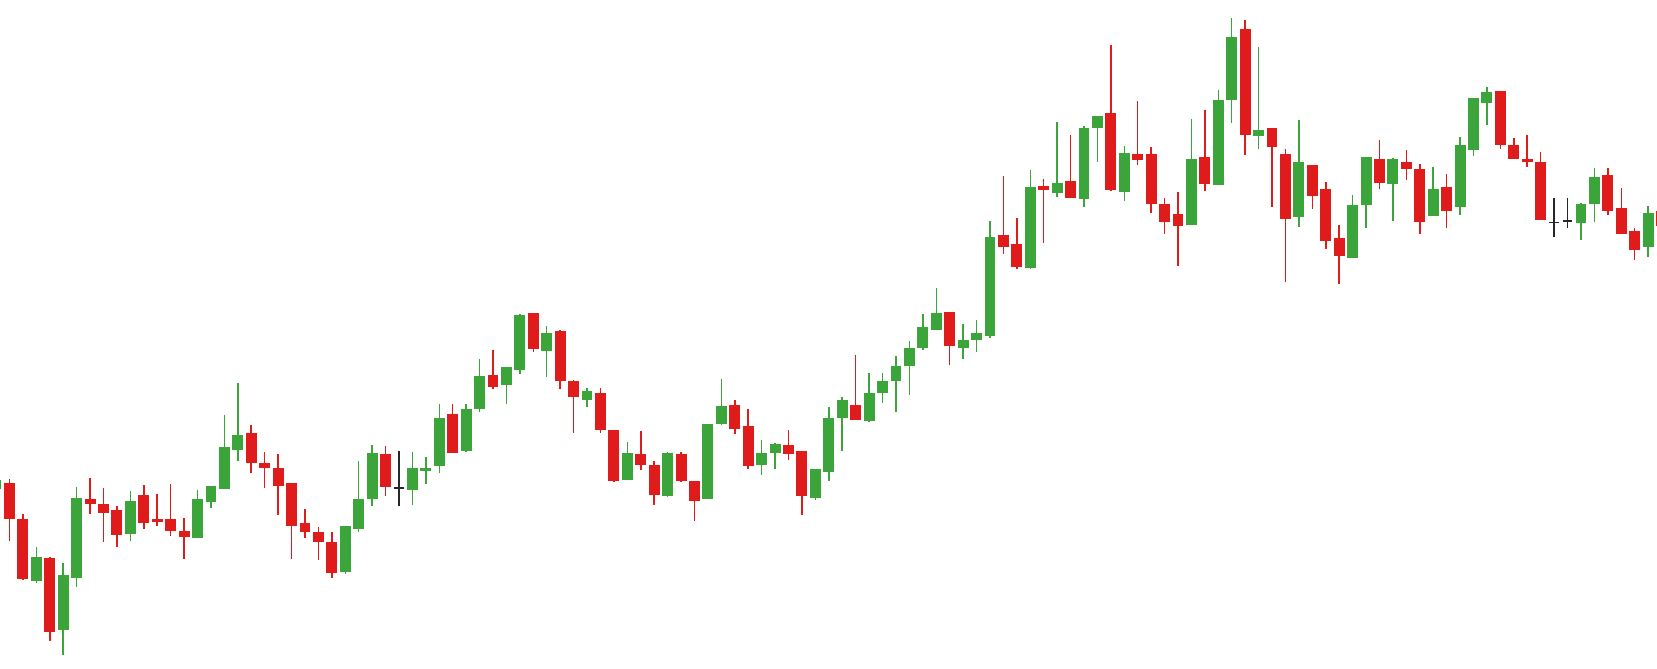buy: (1038, 144, 1199, 268), (179, 493, 353, 582)
sell: (1104, 18, 1253, 137), (1374, 87, 1506, 186)
